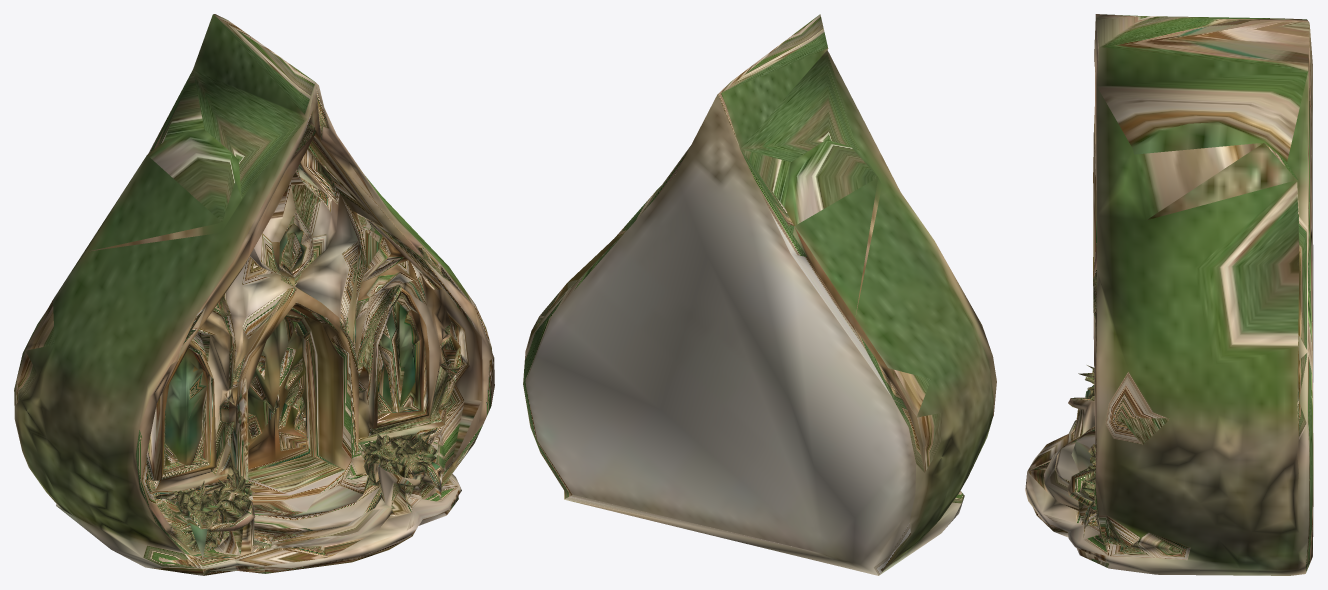
The model's file is Leafspire_Cathedral.glb.
3 views of the same model, side by side, from view 1: azimuth 30°, elevation 25°; view 2: azimuth 150°, elevation 25°; view 3: azimuth 270°, elevation 25° (orthographic). The views are drawn at different scales.
Visible parts, largest first — view 1: Leafspire_Cathedral; view 2: Leafspire_Cathedral; view 3: Leafspire_Cathedral.
Boxes of the visible parts, left/top/right/bottom form: Leafspire_Cathedral: left=14, top=14, right=494, bottom=575; Leafspire_Cathedral: left=523, top=14, right=996, bottom=575; Leafspire_Cathedral: left=1025, top=14, right=1313, bottom=575.
Size of the model in its own units: 1.79 by 1.9 by 1.04.
Materials: 1 (1 with a texture image).
